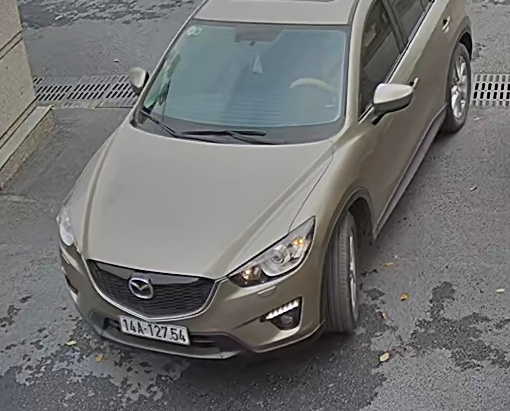vehicle plate: (110, 306, 200, 349)
